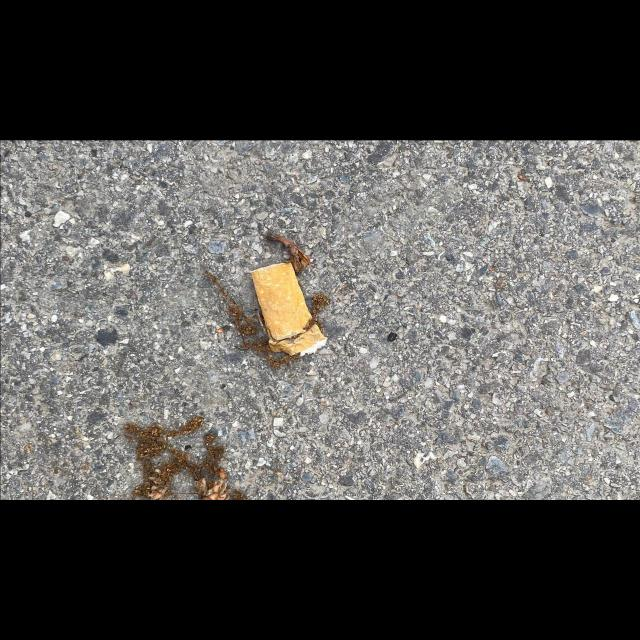cigarette: (250, 261, 329, 357)
